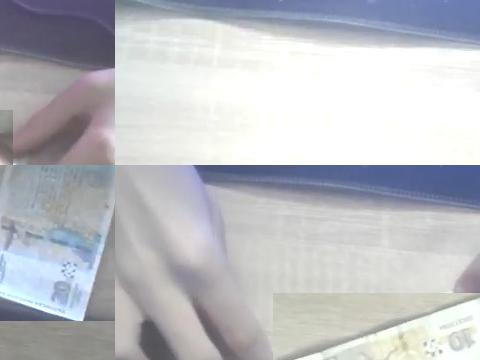10leva: (280, 295, 480, 360)
20leva: (0, 165, 115, 321)
